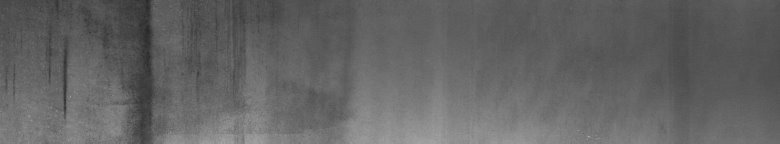ka: (6, 4, 315, 136)
